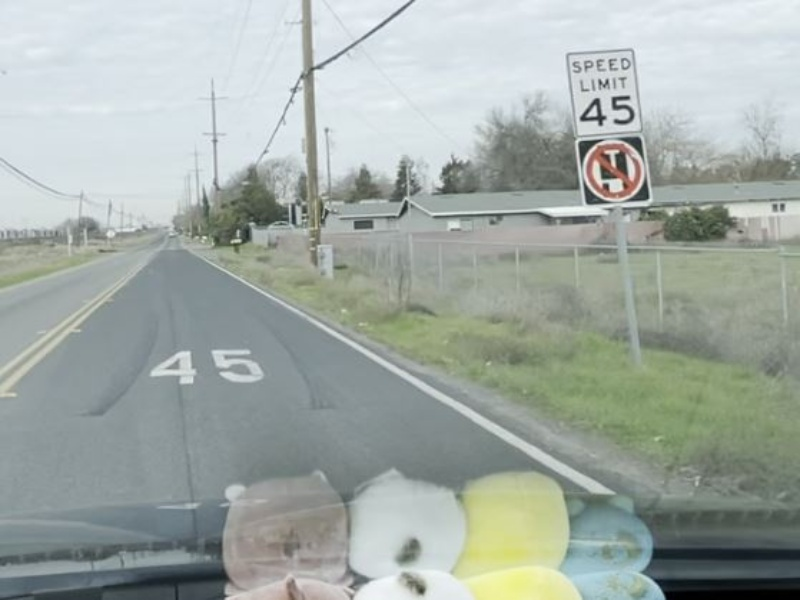speed limit sign: (561, 47, 647, 137)
